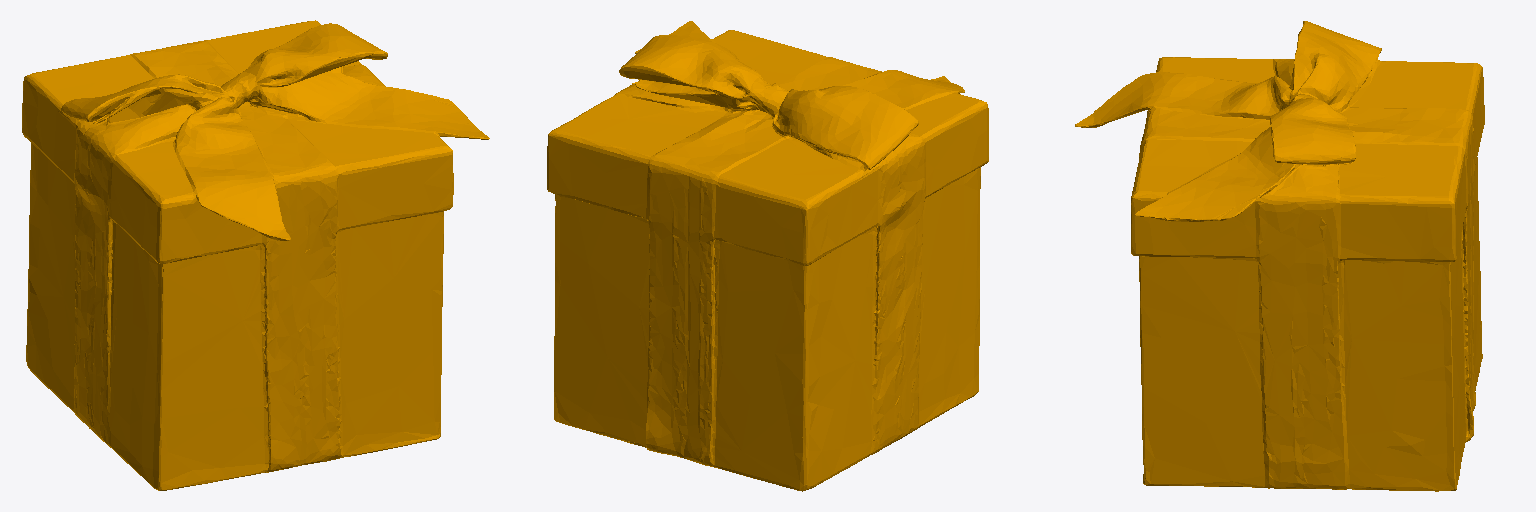
robot.urdf — KS_Chocolate_Cube_Box_Assortment_By_Neuhaus_2010_Ounces:
<?xml version="1.0"?>
<robot name="KS_Chocolate_Cube_Box_Assortment_By_Neuhaus_2010_Ounces">
  <link name="base_link">
    <contact>
      <lateral_friction value="1.0"/>
      <rolling_friction value="0.0"/>
      <contact_cfm value="0.0"/>
      <contact_erp value="1.0"/>
    </contact>
    <inertial>
      <mass value="0.752931167962"/>
      <inertia ixx="1" ixy="0" ixz="0" iyy="1" iyz="0" izz="1"/>
    </inertial>
    <visual>
      <geometry>
        <mesh filename="KS_Chocolate_Cube_Box_Assortment_By_Neuhaus_2010_Ounces_visual.obj"/>
      </geometry>
    </visual>
    <collision>
      <geometry>
        <mesh filename="KS_Chocolate_Cube_Box_Assortment_By_Neuhaus_2010_Ounces_collision.obj"/>
      </geometry>
    </collision>
  </link>
</robot>

--- What the picture shows (computed from the rendered views, not written in the file) ---
The picture shows the robot from 3 angles, left to right: view 1: azimuth 30°, elevation 25°; view 2: azimuth 150°, elevation 25°; view 3: azimuth 270°, elevation 25°; orthographic projection.
Robot: KS_Chocolate_Cube_Box_Assortment_By_Neuhaus_2010_Ounces — 1 links, 0 joints (none); root link base_link; default pose: all joints at 0.
Visible links, largest first — view 1: base_link; view 2: base_link; view 3: base_link.
Boxes of the visible links, x1,y1,x2,y2 form: base_link: [22, 20, 489, 490]; base_link: [547, 21, 988, 491]; base_link: [1075, 21, 1484, 491].
Size in the robot's own frame: 0.1182 by 0.1281 by 0.1196 metres.
1 mesh visuals loaded from 1 distinct referenced files (1 OBJ).